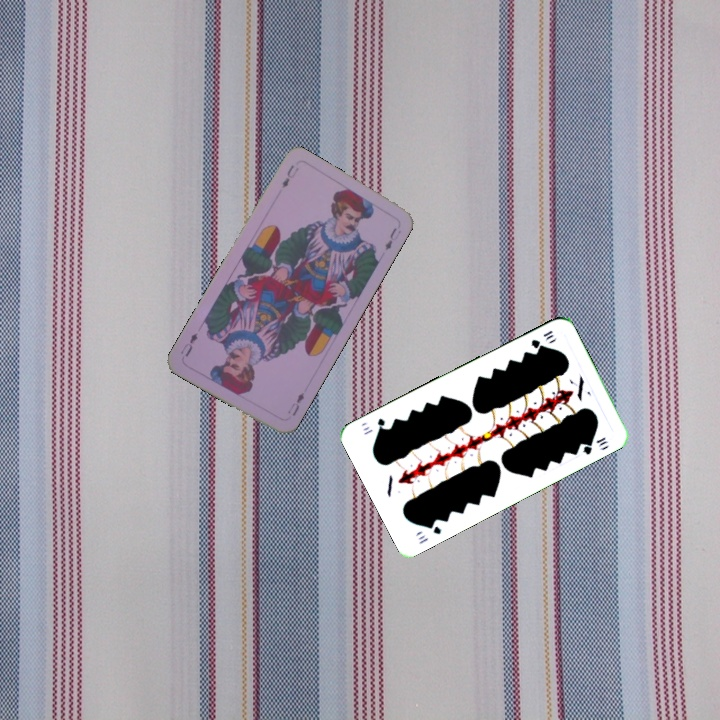EU: (277, 161, 301, 191), (284, 388, 307, 419)
G10: (414, 519, 444, 547), (527, 326, 557, 351)
